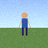person: (19, 13, 30, 35)
